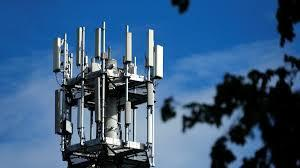antenna: (93, 78, 106, 125), (73, 25, 86, 67), (51, 36, 63, 73), (154, 42, 164, 81), (95, 27, 104, 59), (147, 29, 154, 67), (126, 32, 134, 61), (124, 100, 132, 126)
